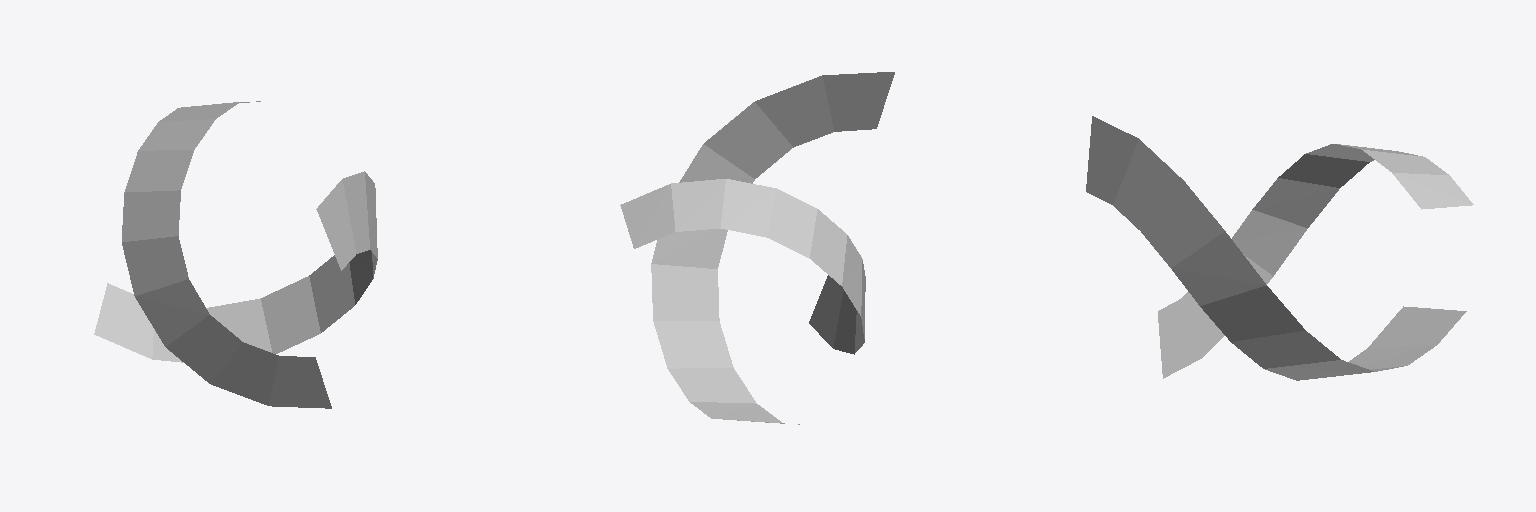
File: gj_mx_luoxuanxian01.obj
3 views of the same model, side by side, from view 1: azimuth 30°, elevation 25°; view 2: azimuth 150°, elevation 25°; view 3: azimuth 270°, elevation 25° (orthographic).
Parts seen in each view (by area): view 1: gj_mx_luoxuanxian01; view 2: gj_mx_luoxuanxian01; view 3: gj_mx_luoxuanxian01.
Part boxes in pixels (bbox=[...]): gj_mx_luoxuanxian01: bbox=[94, 101, 377, 408]; gj_mx_luoxuanxian01: bbox=[620, 72, 894, 424]; gj_mx_luoxuanxian01: bbox=[1086, 116, 1473, 380].
Size of the model in its own units: 0.8934 by 0.9956 by 1.4.